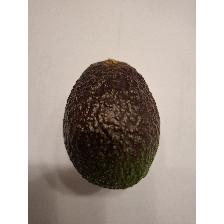Avocado: (58, 56, 162, 192)
